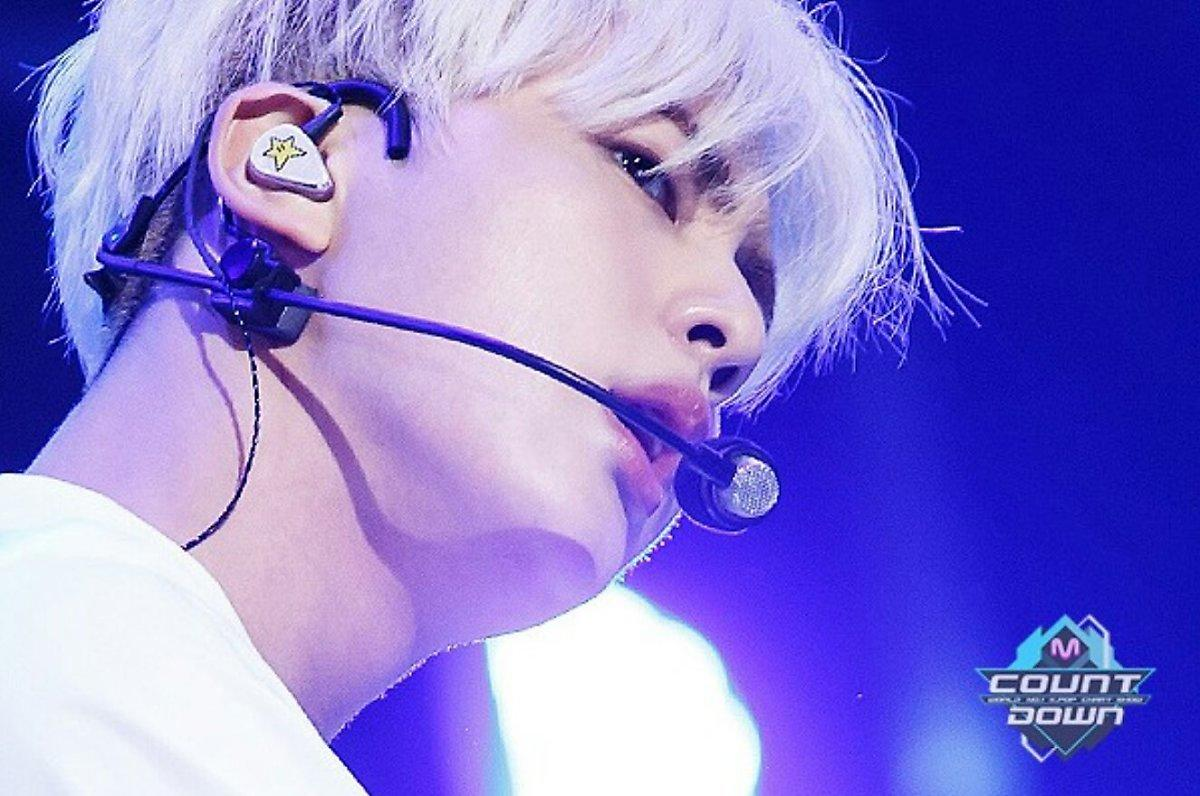earphone: (241, 108, 351, 217)
